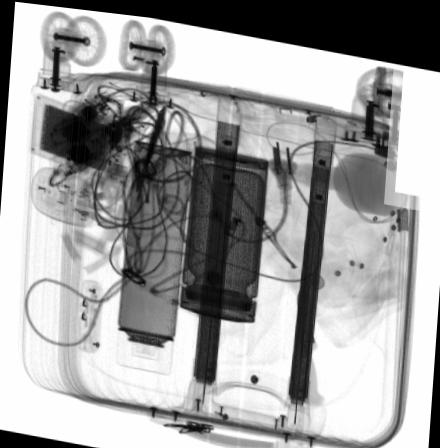Knife: (134, 100, 166, 197)
Powerbank: (29, 91, 133, 179)
Sprayer: (116, 136, 193, 369)
